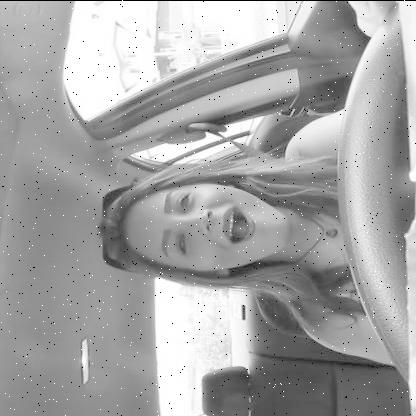seatbelt: (88, 112, 340, 282)
